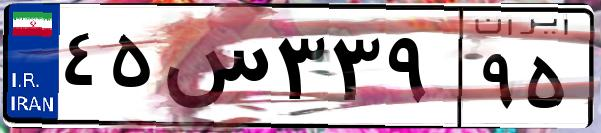3: (270, 28, 330, 110), (330, 28, 385, 110)
4: (57, 26, 110, 100)
5: (525, 38, 570, 115), (110, 28, 158, 98)
9: (385, 28, 445, 110), (475, 38, 525, 113)
س: (158, 20, 270, 120)
